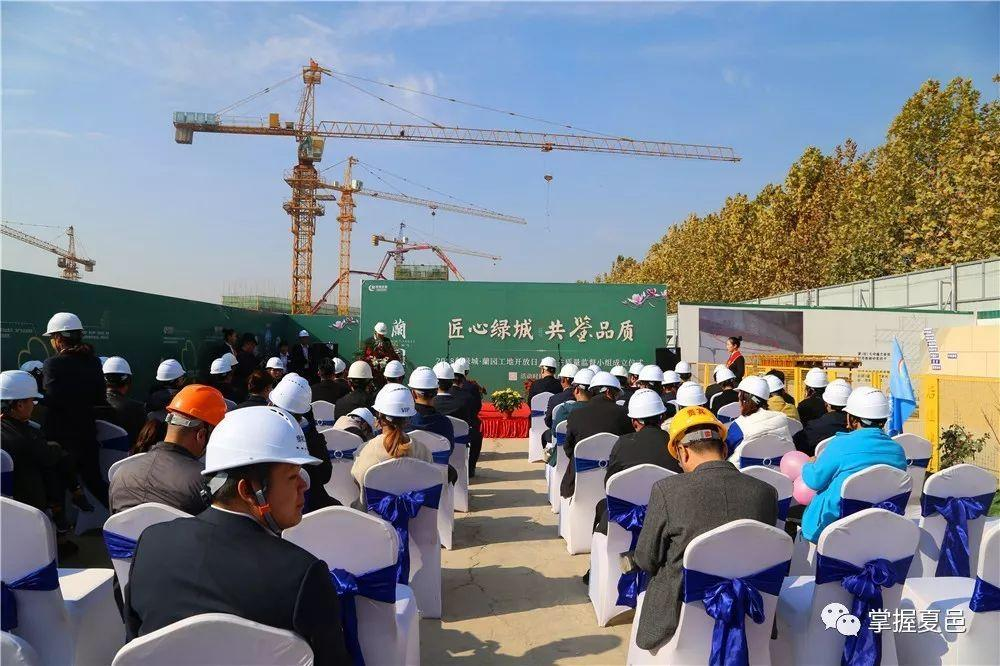helmet: (205, 404, 322, 469), (668, 407, 730, 453), (171, 387, 229, 428), (369, 382, 417, 421), (626, 389, 672, 428), (270, 377, 317, 410), (848, 389, 891, 422), (1, 370, 42, 401), (44, 312, 84, 341), (737, 374, 773, 405), (673, 381, 709, 409), (104, 351, 136, 379), (822, 381, 848, 409), (157, 358, 184, 383), (350, 360, 377, 383), (410, 367, 434, 392), (593, 374, 620, 396), (640, 365, 663, 386), (574, 371, 595, 389), (436, 363, 456, 381), (214, 360, 233, 377), (223, 352, 243, 368), (807, 371, 826, 387), (561, 364, 579, 380), (538, 358, 559, 371), (720, 367, 738, 382), (459, 356, 475, 372), (268, 356, 284, 371), (678, 363, 693, 376), (334, 360, 347, 374), (376, 321, 386, 337), (302, 327, 314, 338)
